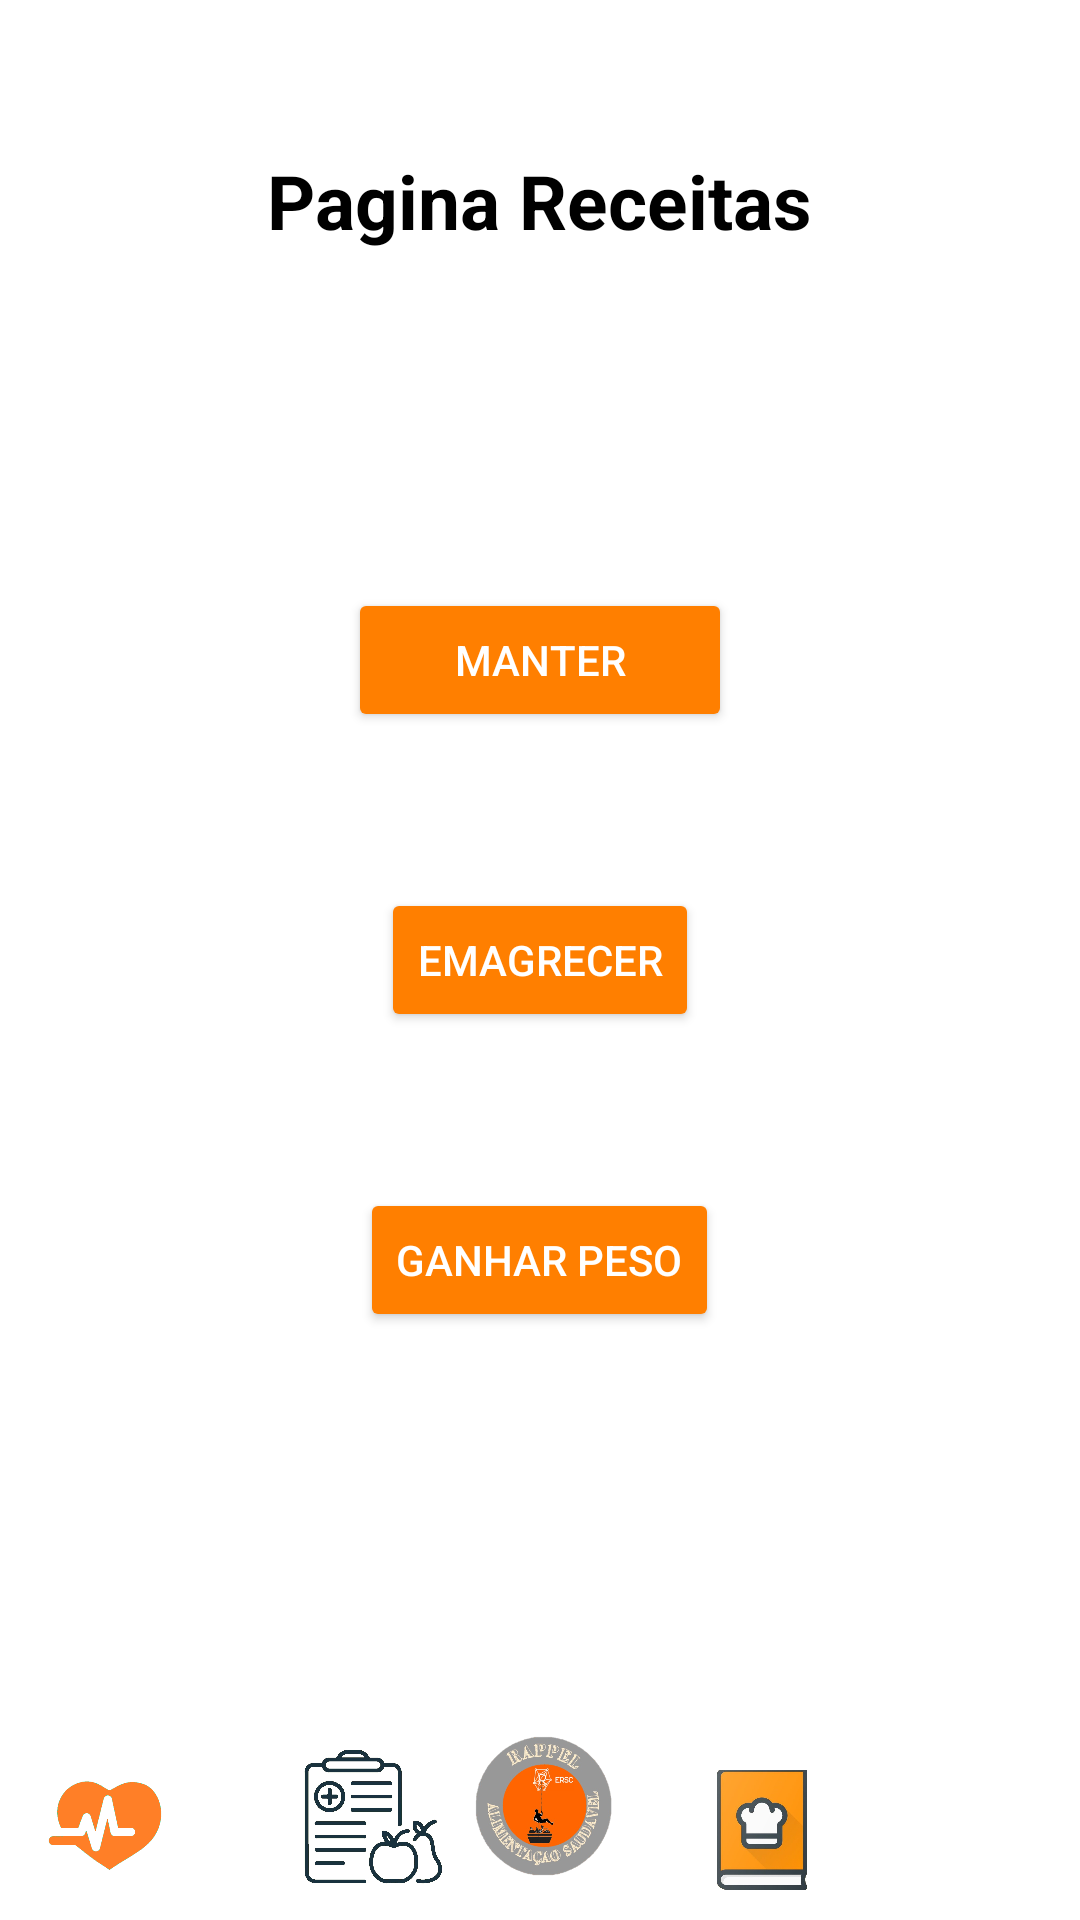

Where icons sit on this 1080 x 1920 app screen, as (x1, y1, x2, y2):
plano: (304, 1750, 442, 1883)
planodesaude: (49, 1781, 161, 1870)
